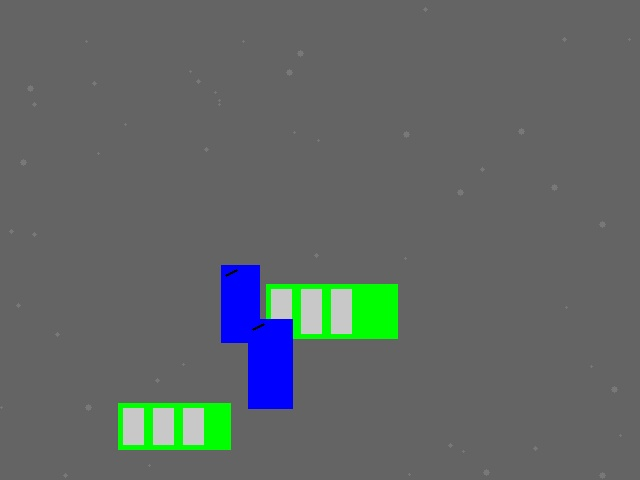bus: (266, 284, 397, 338), (118, 403, 230, 449)
motorcycle: (248, 319, 292, 408), (221, 265, 259, 342)
